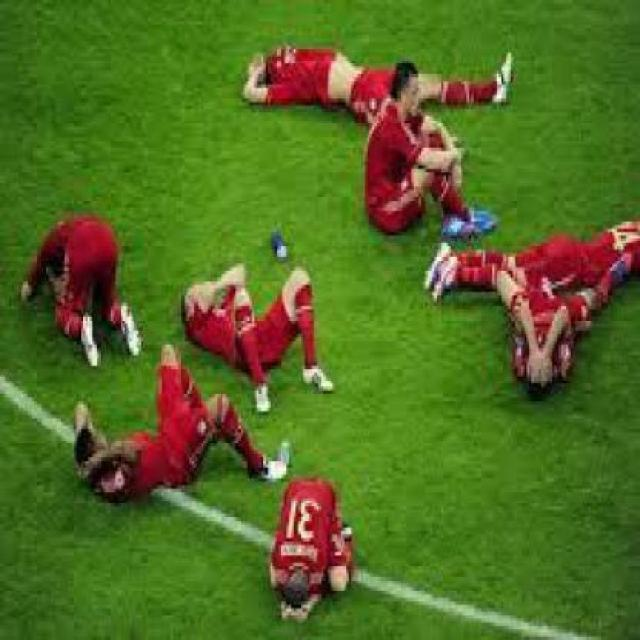fall: (426, 179, 634, 324)
